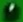black: (0, 0, 23, 22)
